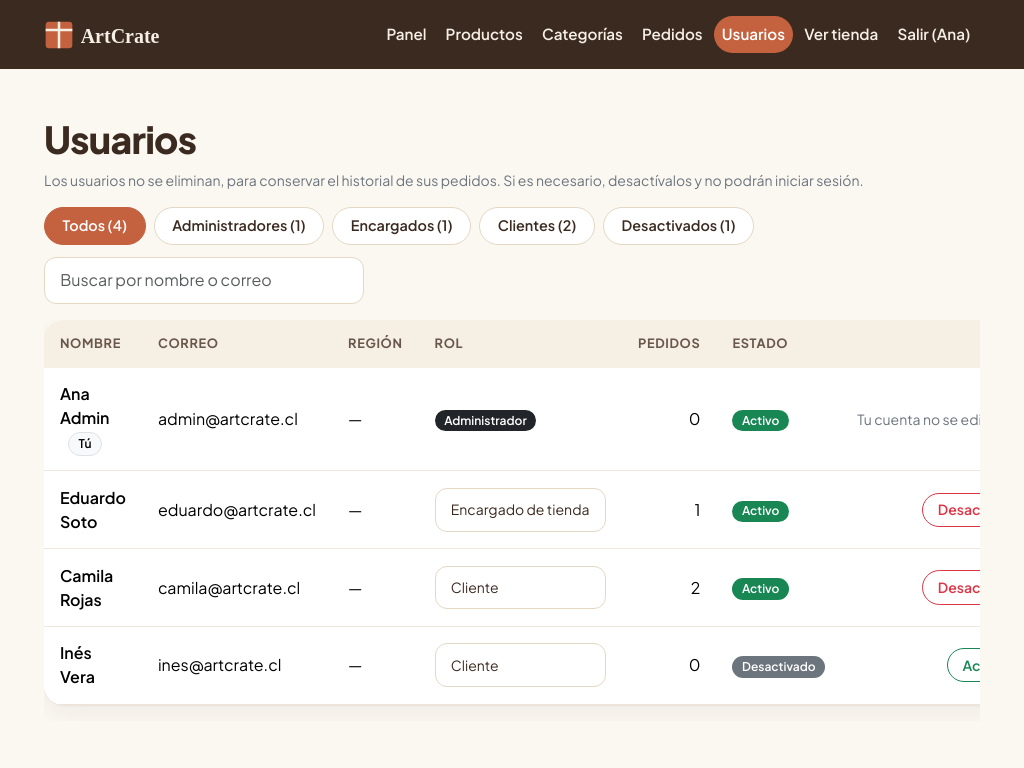
Test: Administración de usuarios › cambiar el rol › si el servidor lo rechaza muestra el motivo
Expected: the row "Camila Rojas camila@artcrate.cl — 2 Activo Desactivar" is shown, x1=44 y1=549 x2=980 y2=626
Select "Cliente" in the dropdown named "Rol de Eduardo Soto" at coordinates (520, 510), box x1=435 y1=488 x2=606 y2=532
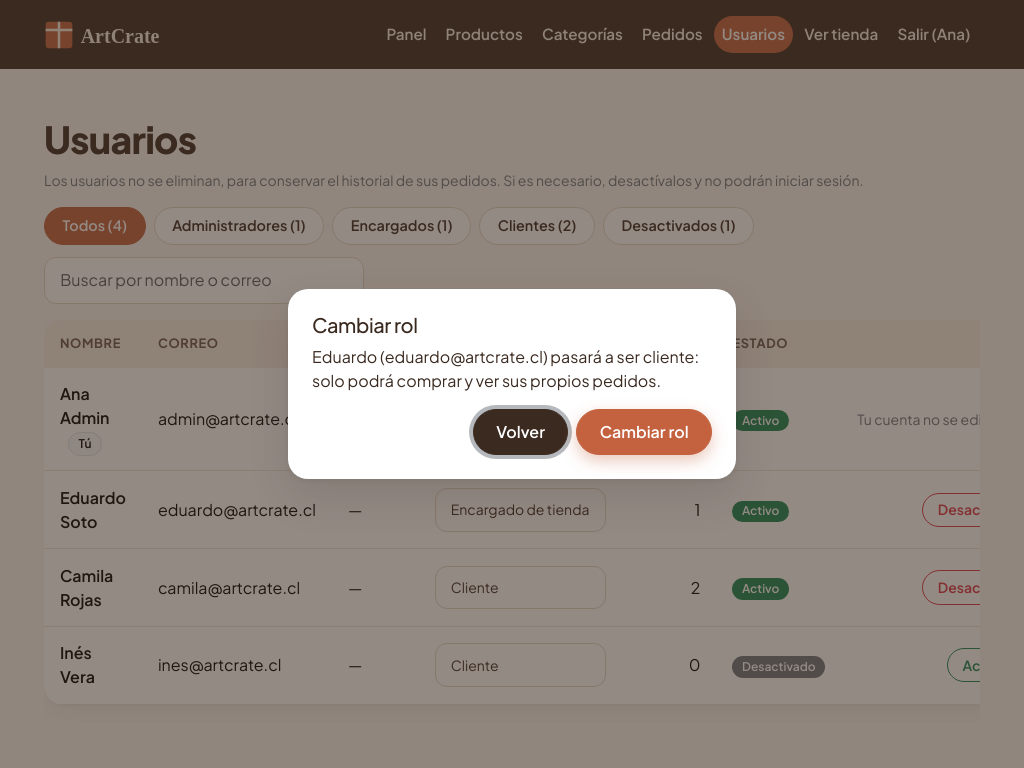
Click the button "Cambiar rol" at coordinates (644, 432), box x1=576 y1=409 x2=712 y2=455
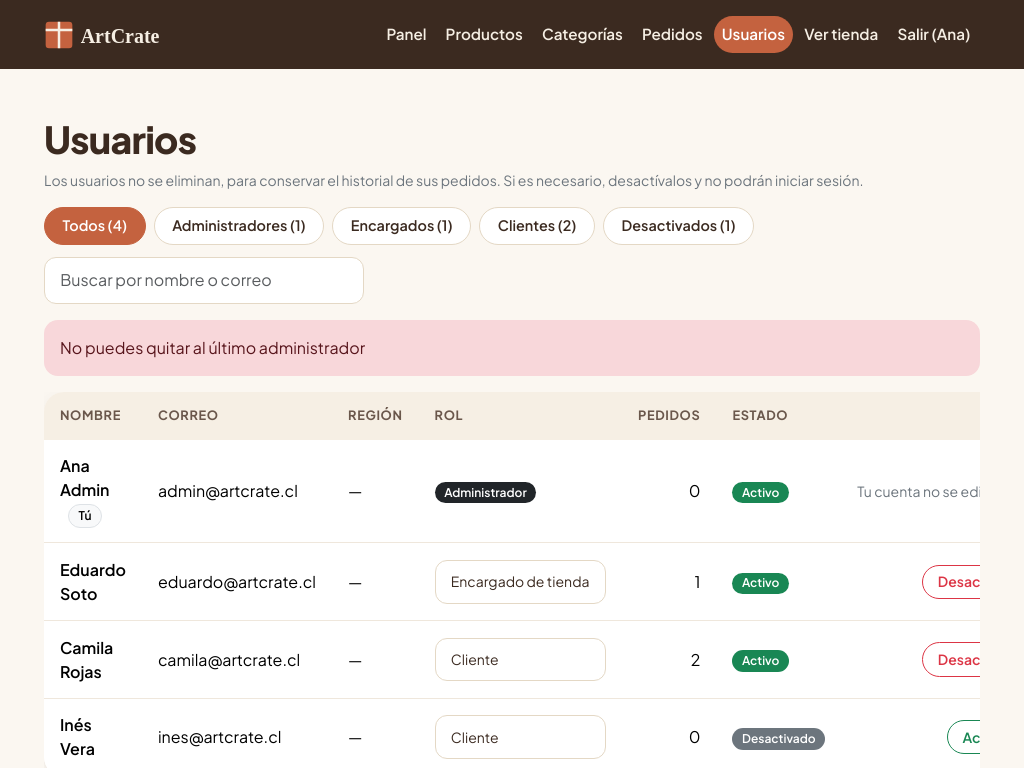
Now the message reads "No puedes quitar al último administrador", box x1=60 y1=337 x2=365 y2=358
